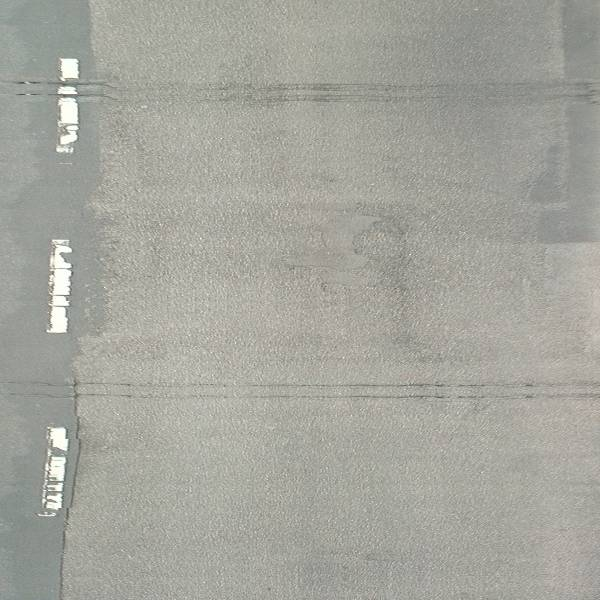road_damage: (278, 208, 394, 292), (80, 202, 123, 340), (61, 378, 554, 390), (60, 420, 88, 591), (88, 75, 404, 89), (565, 72, 600, 115)
